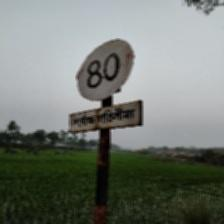Speed-limit: (69, 37, 142, 133)
